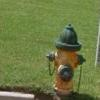Hydrant: (39, 20, 88, 96)
